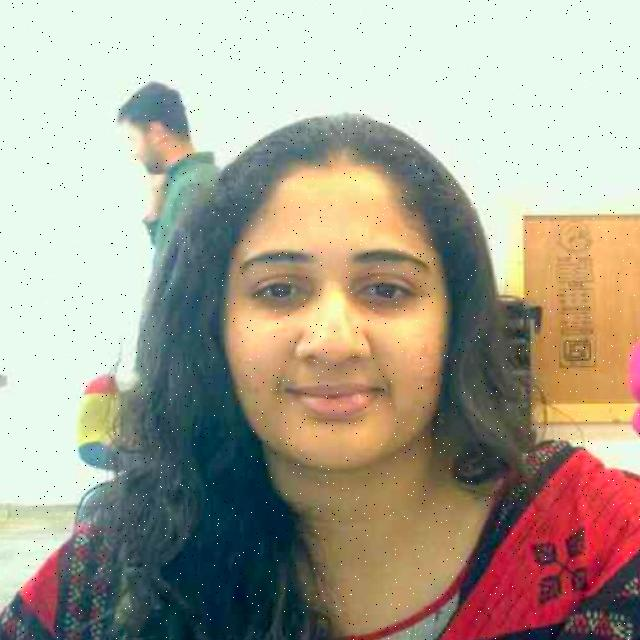puffy_eyes: (259, 286, 311, 314), (353, 295, 417, 312)
